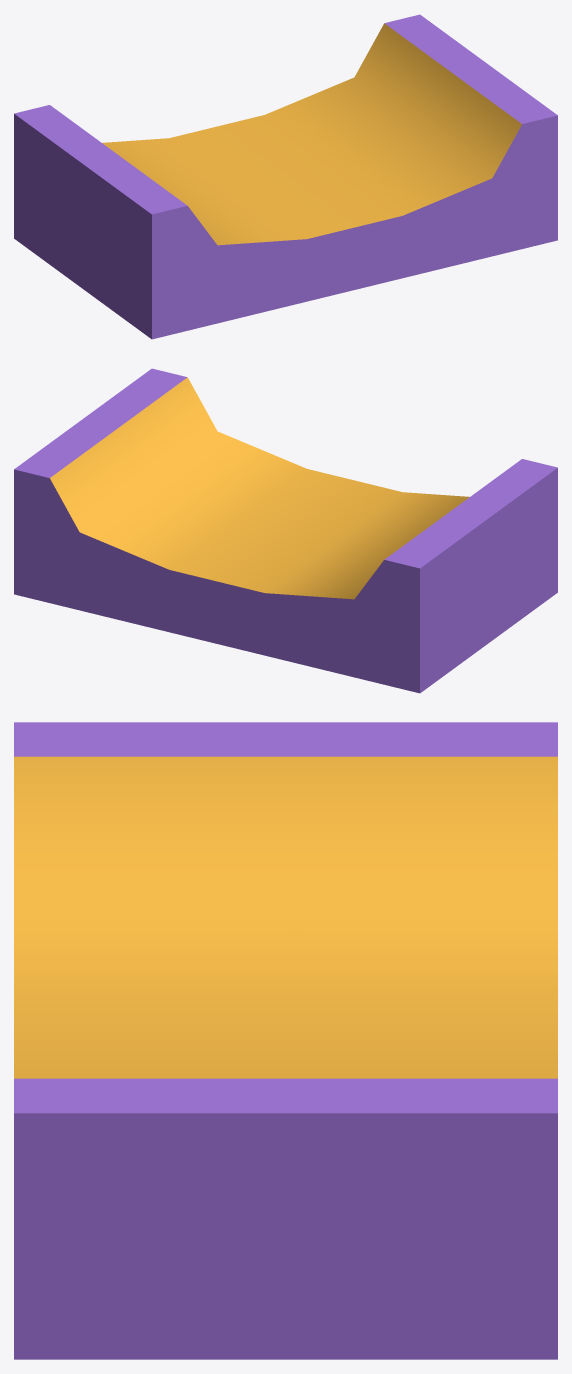
Rendered from kenney-marble-straight-wide.glb.
The picture shows the model from 3 angles, top to bottom: view 1: azimuth 30°, elevation 25°; view 2: azimuth 150°, elevation 25°; view 3: azimuth 270°, elevation 25°; orthographic projection. The views are drawn at different scales.
Visible parts, largest first — view 1: straight-wide; view 2: straight-wide; view 3: straight-wide.
Part boxes in pixels (x1,y1,x2,y2): straight-wide: (14, 14, 557, 339); straight-wide: (14, 368, 557, 693); straight-wide: (14, 722, 557, 1359).
Bounding box in the file's own units: 1.7 × 0.5 × 1.
1 material, 1 textured.
